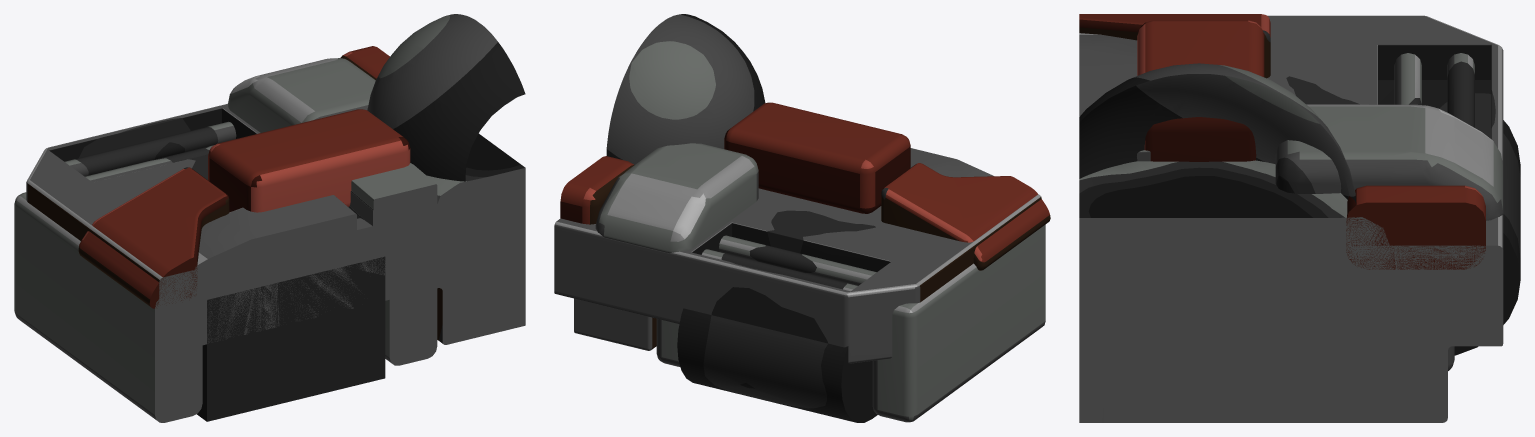
The model's file is track_carrier_tl_damaged.glb.
The picture shows the model from 3 angles, left to right: view 1: azimuth 30°, elevation 25°; view 2: azimuth 150°, elevation 25°; view 3: azimuth 270°, elevation 25°; orthographic projection. The views are drawn at different scales.
Visible parts, largest first — view 1: track_carrier_tl_damaged; view 2: track_carrier_tl_damaged; view 3: track_carrier_tl_damaged.
Boxes of the visible parts, <box> form: track_carrier_tl_damaged: <box>14,14,525,422</box>; track_carrier_tl_damaged: <box>554,14,1050,422</box>; track_carrier_tl_damaged: <box>1079,14,1520,422</box>.
Bounding box in the file's own units: 21.3 × 15.56 × 16.7.
